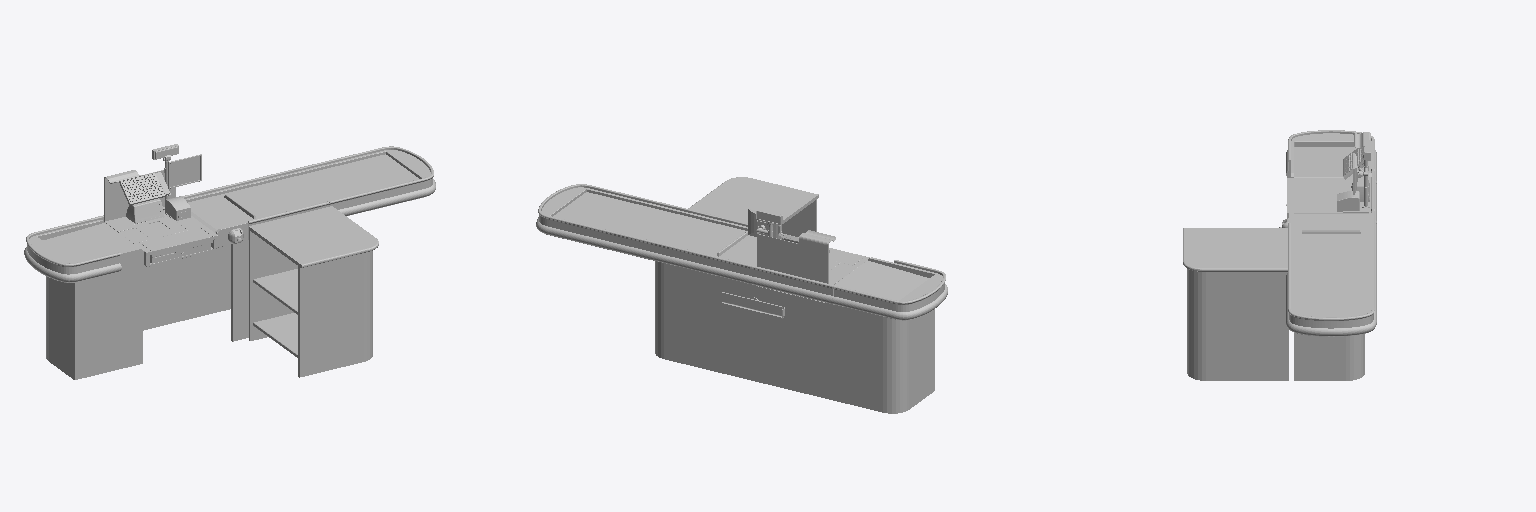
Rendered from Cash counter001.obj.
3 renders of one model, left to right at view 1: azimuth 30°, elevation 25°; view 2: azimuth 150°, elevation 25°; view 3: azimuth 270°, elevation 25°, orthographic.
Visible parts, largest first — view 1: Tumb, Tumb01, Transport, Tray, Cash, Glass, Keyb, Screen01; view 2: Tumb01, Transport, Tray, Tumb, Glass, Cash, Turn; view 3: Tumb, Transport, Tray, Tumb01, Cash.
Boxes of the visible parts, x1=… form: Tumb: x1=249, y1=206, x2=378, y2=377; Tumb01: x1=46, y1=240, x2=248, y2=379; Transport: x1=181, y1=146, x2=435, y2=247; Tray: x1=24, y1=215, x2=143, y2=282; Cash: x1=105, y1=198, x2=217, y2=266; Glass: x1=104, y1=170, x2=175, y2=221; Keyb: x1=119, y1=172, x2=170, y2=205; Screen01: x1=168, y1=154, x2=201, y2=188; Tumb01: x1=655, y1=261, x2=934, y2=413; Transport: x1=536, y1=184, x2=786, y2=284; Tray: x1=754, y1=257, x2=947, y2=320; Tumb: x1=688, y1=177, x2=818, y2=236; Glass: x1=757, y1=230, x2=835, y2=283; Cash: x1=758, y1=248, x2=869, y2=302; Turn: x1=721, y1=292, x2=783, y2=318; Tumb: x1=1183, y1=228, x2=1288, y2=380; Transport: x1=1279, y1=207, x2=1376, y2=336; Tray: x1=1286, y1=130, x2=1376, y2=219; Tumb01: x1=1294, y1=333, x2=1364, y2=380; Cash: x1=1286, y1=176, x2=1371, y2=218.
Size of the model in its own units: 105 by 44.78 by 45.25.